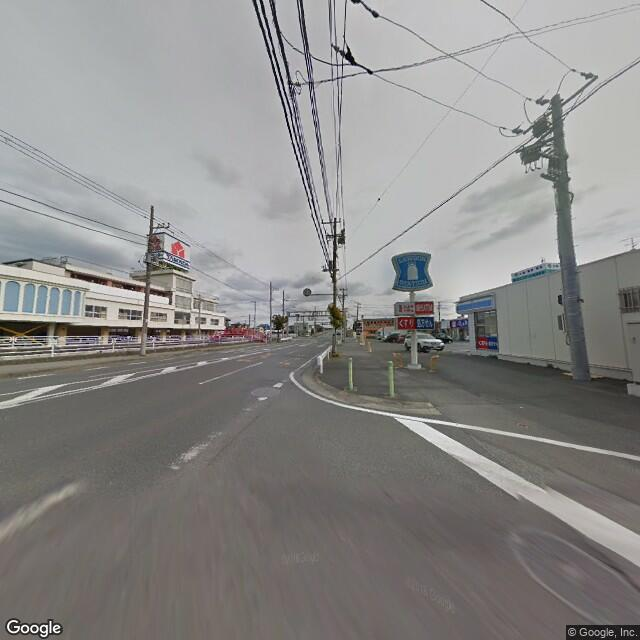lawson: (392, 248, 435, 298), (454, 293, 496, 315)
